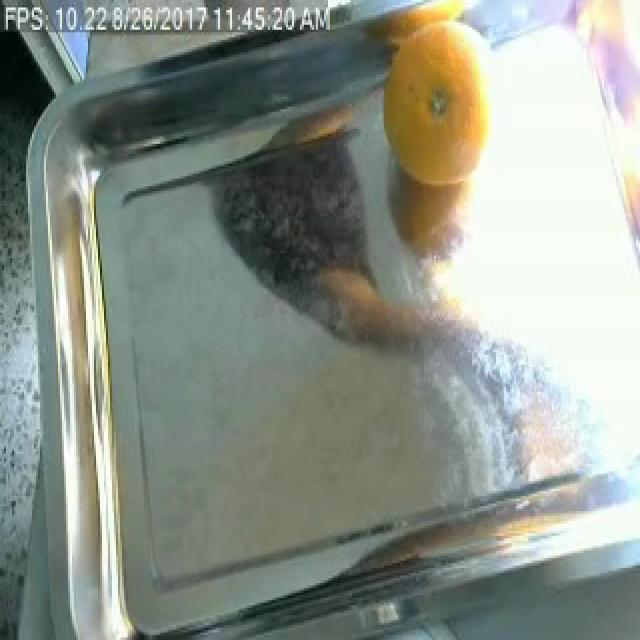Fruit: (368, 0, 520, 285)
